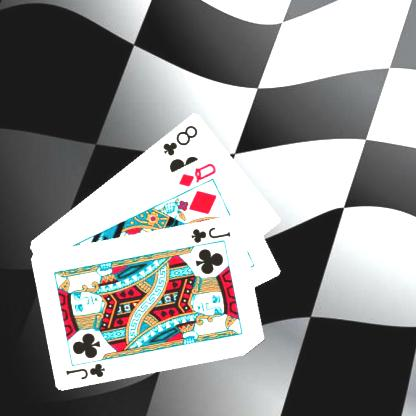8C: (160, 121, 199, 156)
JC: (188, 223, 233, 244), (63, 360, 107, 381)
QD: (176, 160, 218, 188)
